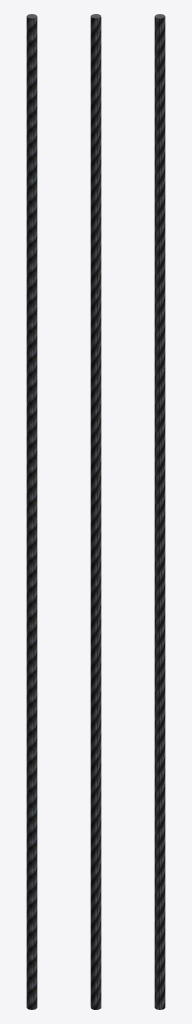
File: Rope.fbx
The picture shows the model from 3 angles, left to right: view 1: azimuth 90°, elevation 25°; view 2: azimuth 210°, elevation 25°; view 3: azimuth 270°, elevation 25°; orthographic projection.
Visible parts, largest first — view 1: Cylinder; view 2: Cylinder; view 3: Cylinder.
Part boxes in pixels (x1,y1,x2,y2): Cylinder: [26, 14, 37, 1009]; Cylinder: [90, 14, 101, 1009]; Cylinder: [154, 14, 165, 1009].
Size of the model in its own units: 5.11 by 517 by 5.11.
